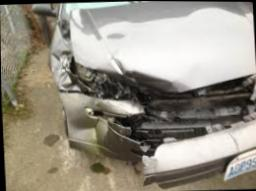Bonnet: (100, 26, 182, 92)
Bumper: (61, 91, 256, 191)
Fender: (50, 20, 100, 92)
Light: (69, 62, 125, 94)
